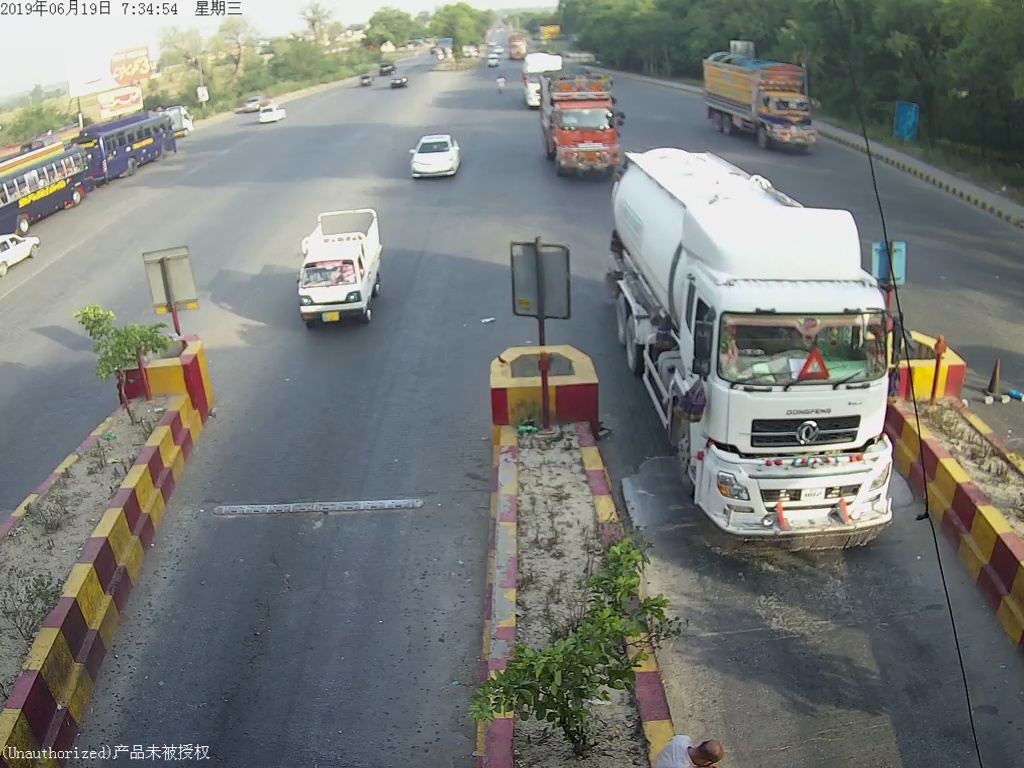Cat-1: (293, 213, 382, 325), (402, 132, 463, 179)
Cat-4: (614, 152, 907, 557), (543, 85, 614, 178)
